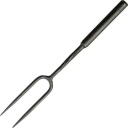fork: (2, 5, 128, 128)
